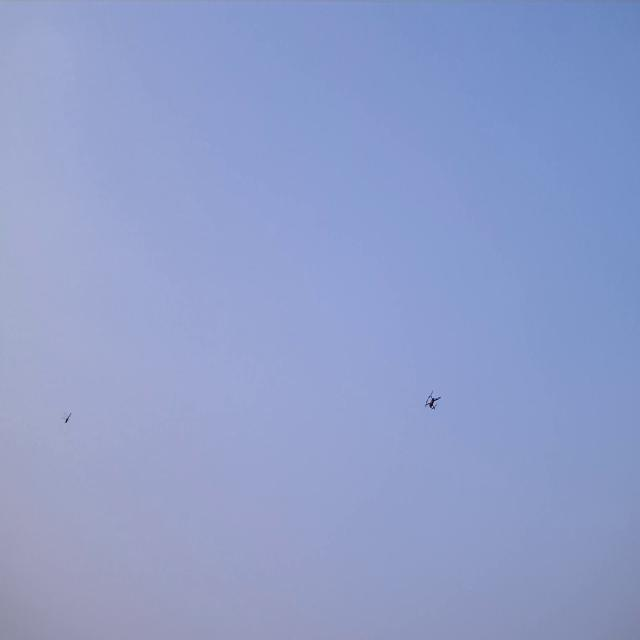UAV: (424, 388, 442, 411)
